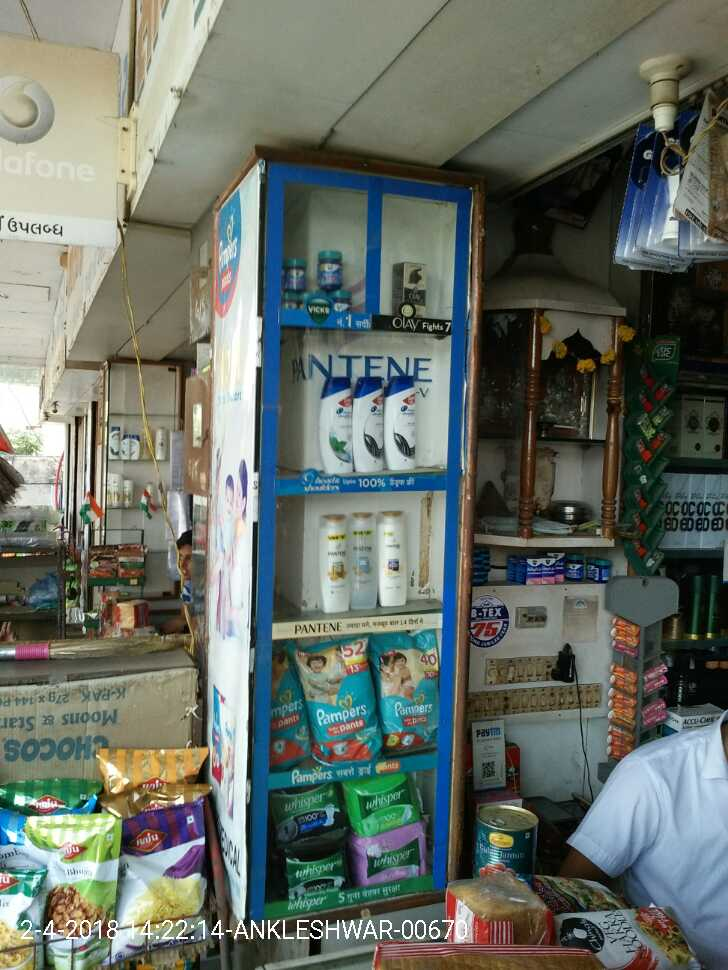vicks: (317, 247, 339, 287), (281, 256, 307, 284), (331, 290, 353, 309), (282, 292, 297, 307)
